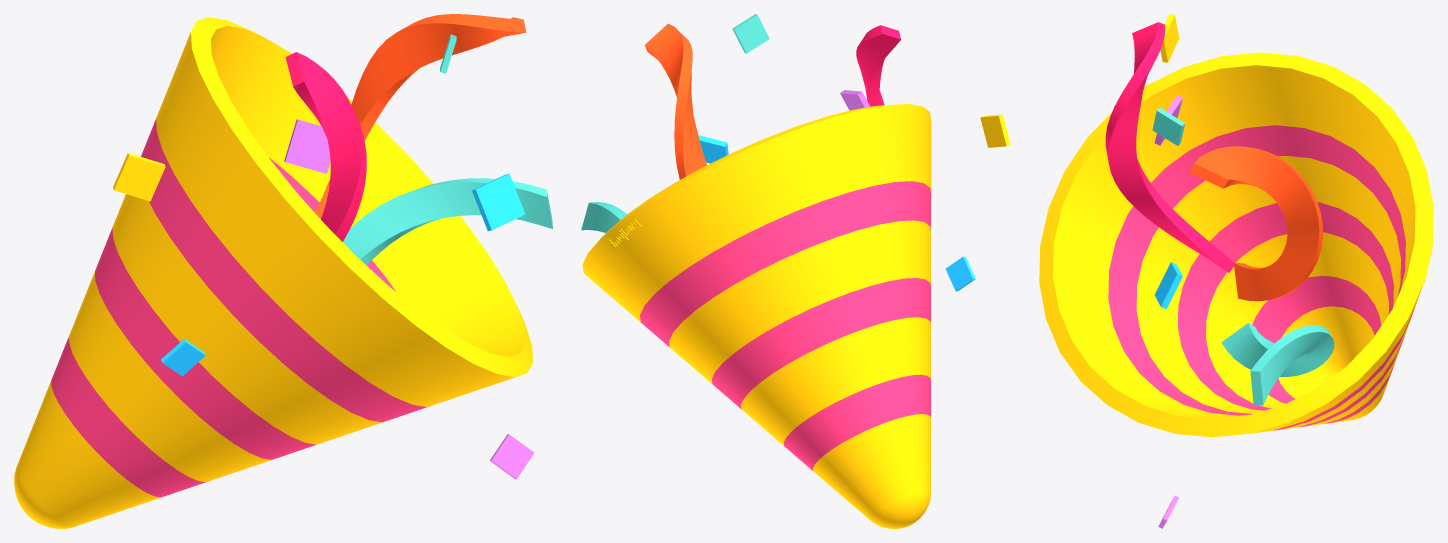
File: party_popper.gltf
3 renders of one model, left to right at view 1: azimuth 30°, elevation 25°; view 2: azimuth 150°, elevation 25°; view 3: azimuth 270°, elevation 25°, orthographic. The views are drawn at different scales.
Visible parts, largest first — view 1: Plane.299; view 2: Plane.299; view 3: Plane.299.
Part boxes in pixels (x1,y1,x2,y2): Plane.299: (14, 14, 552, 528); Plane.299: (581, 14, 1010, 528); Plane.299: (1039, 14, 1433, 528).
Bounding box in the file's own units: 2.12 × 2.15 × 1.72.
Materials: 1 (1 with a texture image).
